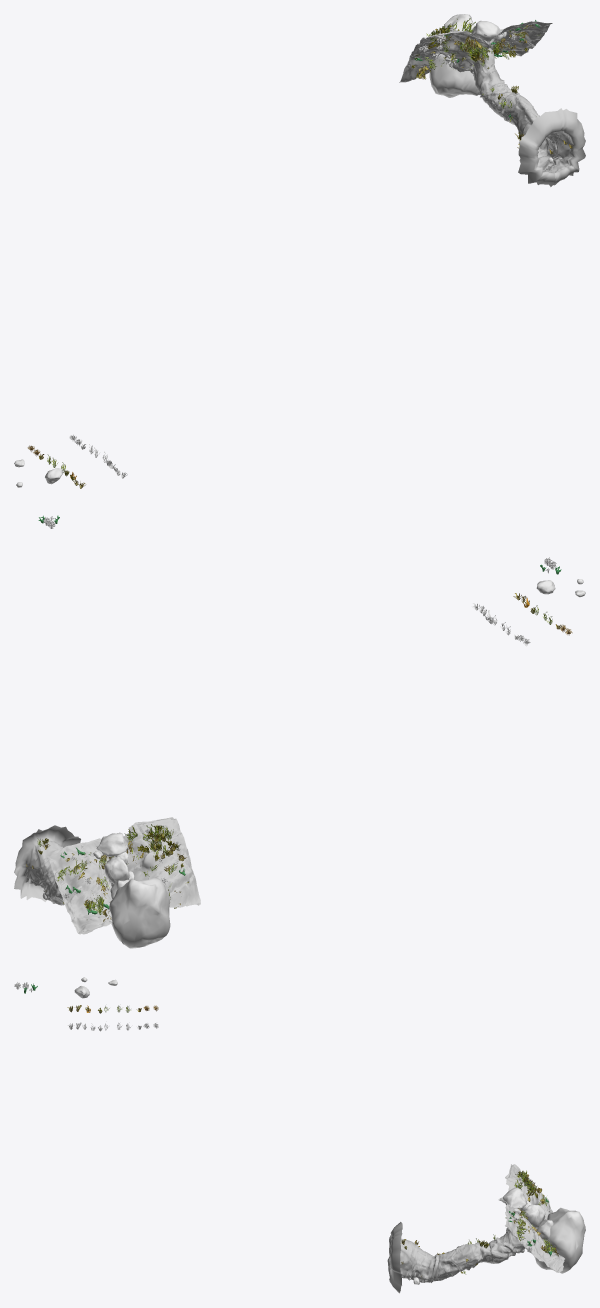
File: Caveentrace_P.fbx
3 views of the same model, one above another, from view 1: azimuth 30°, elevation 25°; view 2: azimuth 210°, elevation 25°; view 3: azimuth 270°, elevation 25° (orthographic). The views are drawn at different scales.
Parts seen in each view (by area): view 1: Cave_Entrance-Modifiers, Rock.008; view 2: Cave_Entrance-Modifiers, Rock.008, Rock.010, Rock.005; view 3: Cave_Entrance-Modifiers, Rock.008.
Part boxes in pixels (<box>): Cave_Entrance-Modifiers: <box>399,21,585,186</box>; Rock.008: <box>429,14,479,97</box>; Cave_Entrance-Modifiers: <box>14,817,200,934</box>; Rock.008: <box>109,877,170,948</box>; Rock.010: <box>96,832,128,856</box>; Rock.005: <box>104,856,129,883</box>; Cave_Entrance-Modifiers: <box>387,1164,564,1293</box>; Rock.008: <box>534,1207,585,1273</box>.
Bounding box in the file's own units: 1895 × 286 × 1381.
